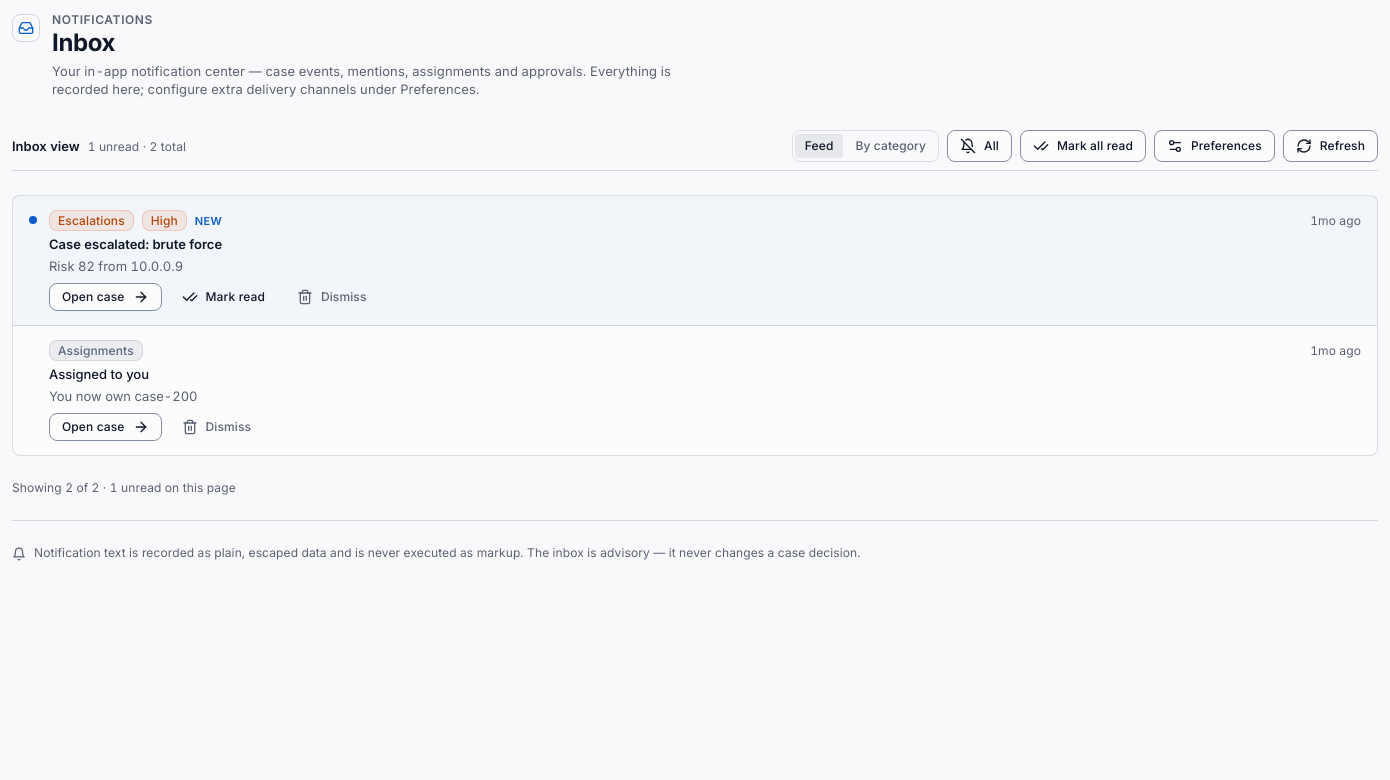
Inbox page (read-state) › dismisses an item, removing it from the list
Expected: the text "Assigned to you" is shown, [49,366,149,382]
Click the button "Dismiss" below "Risk 82 from 10.0.0.9": [332, 297] box [285,283,378,311]
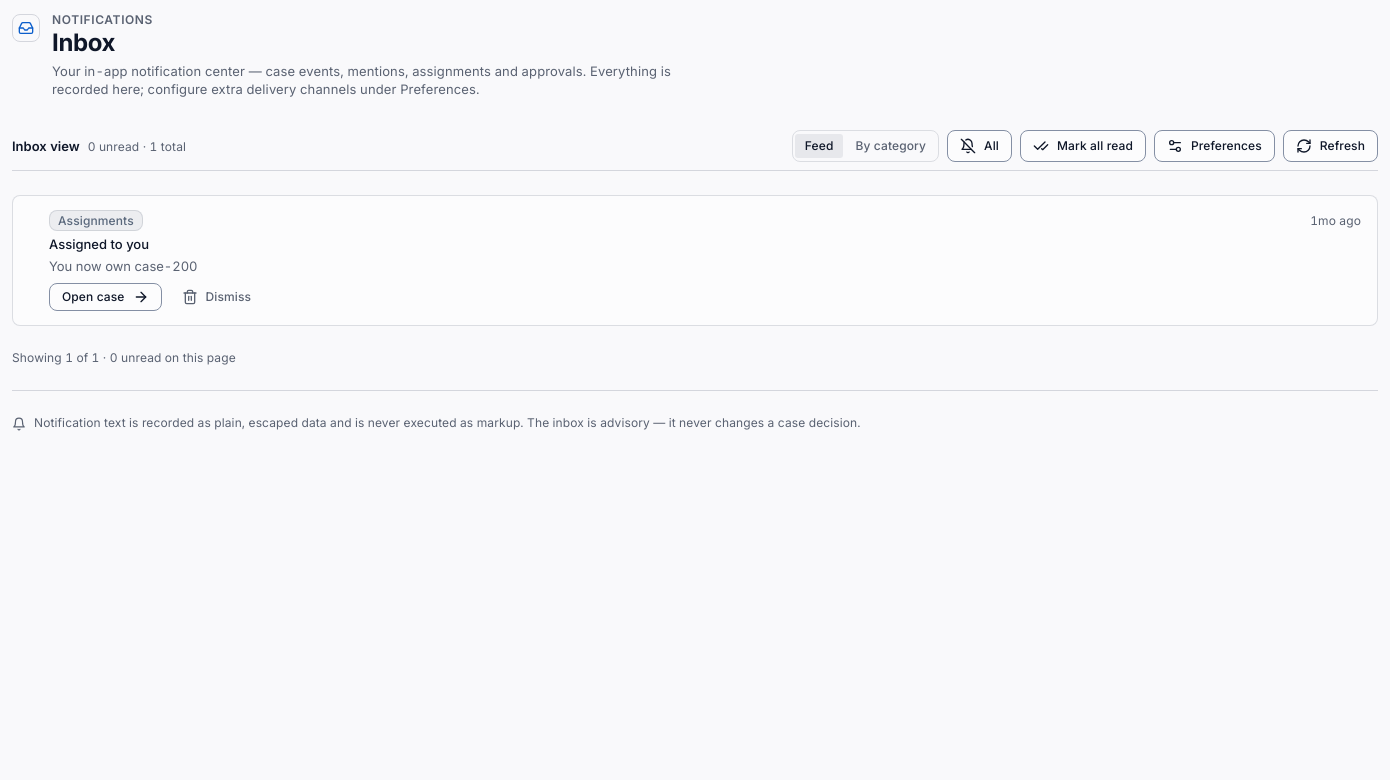
Expected: the text "Case escalated: brute force" is gone
